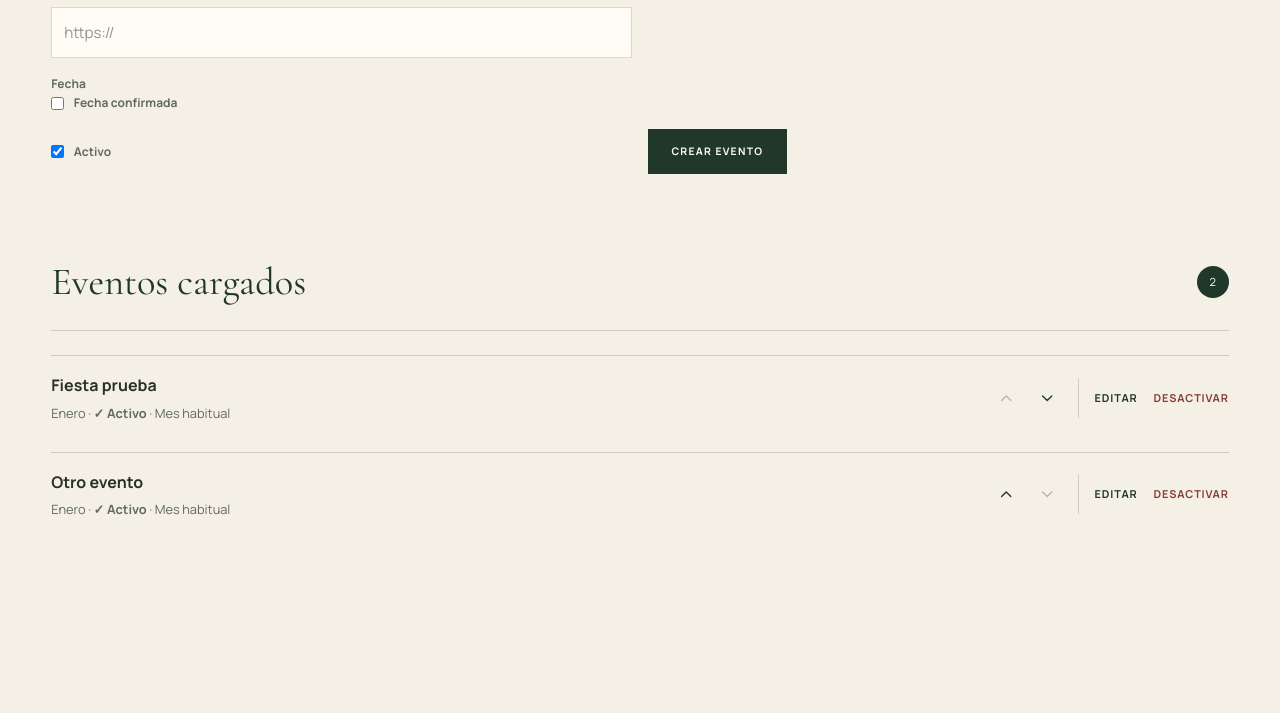
Test: EventsAdmin › keeps local order and dirty controls when saving fails
(page scrolled)
Click the button named "Bajar Fiesta prueba".
click(1047, 398)  # box [1027, 378, 1067, 418]
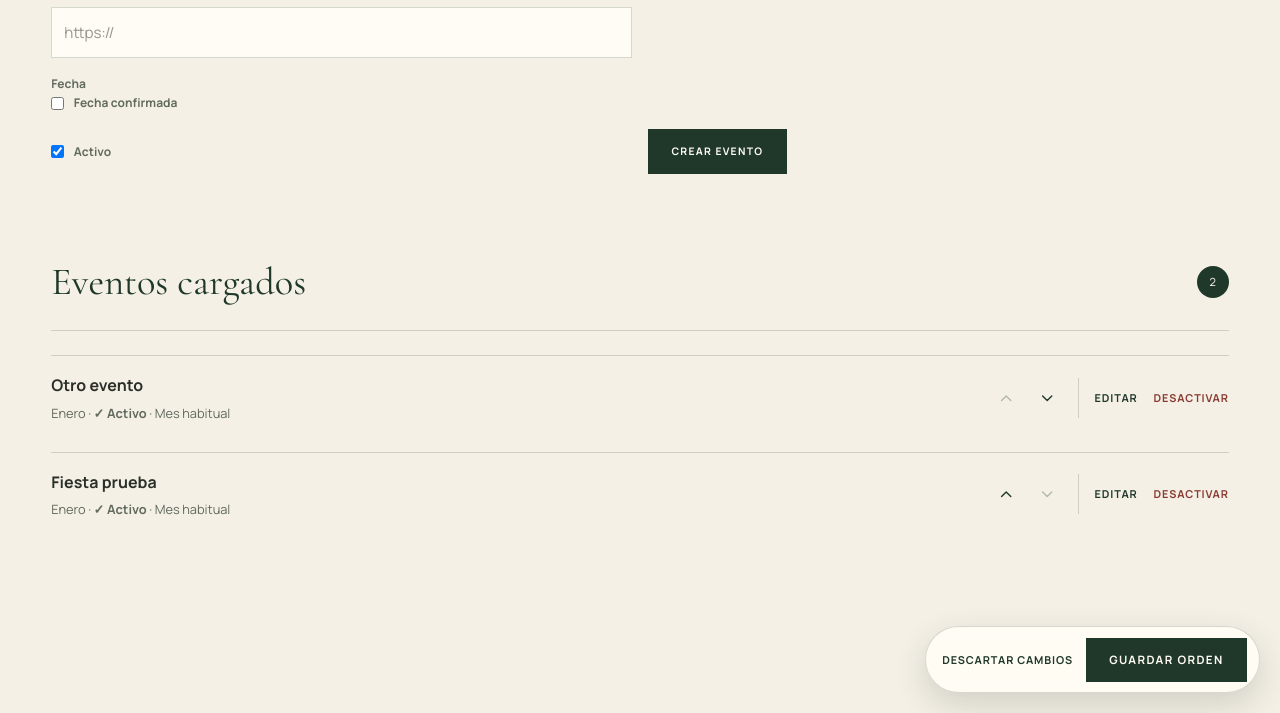
Click the button "Guardar orden".
click(1166, 660)  # box [1086, 638, 1247, 682]
(page scrolled)
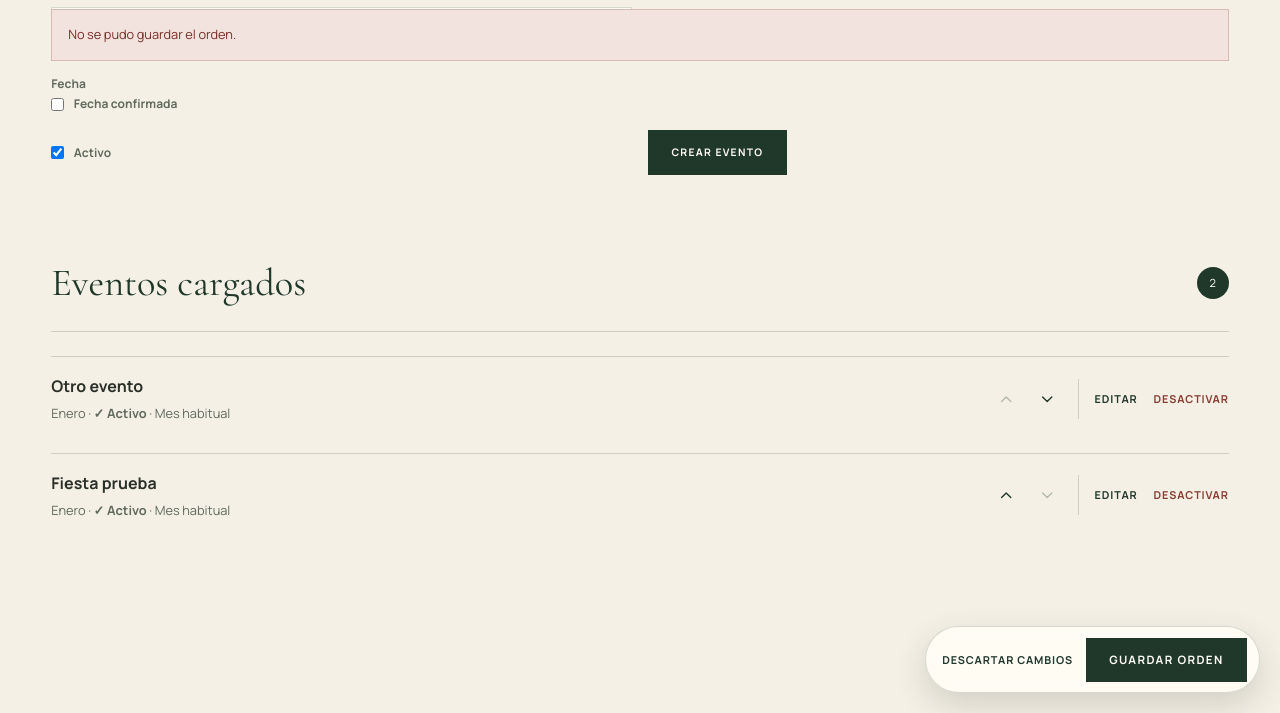
Now the button "Guardar orden" is shown, box [1086, 638, 1247, 682]
Now the text "No se pudo guardar el orden." is shown, box [51, 9, 1229, 61]
